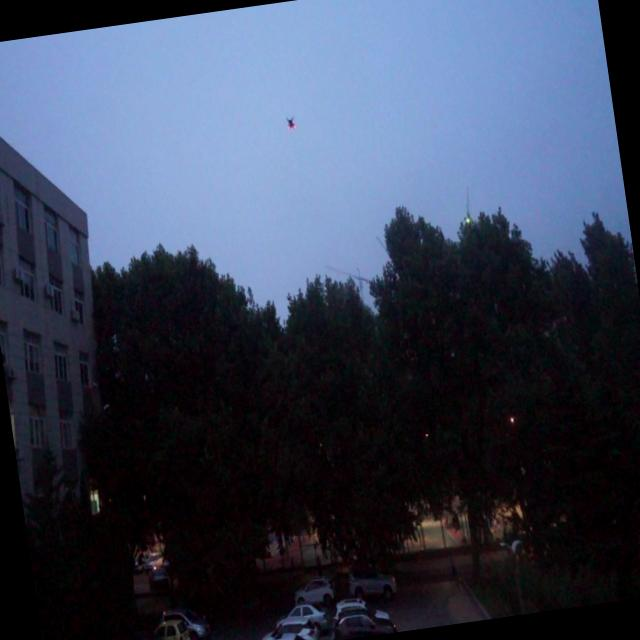drone: (282, 110, 298, 134)
